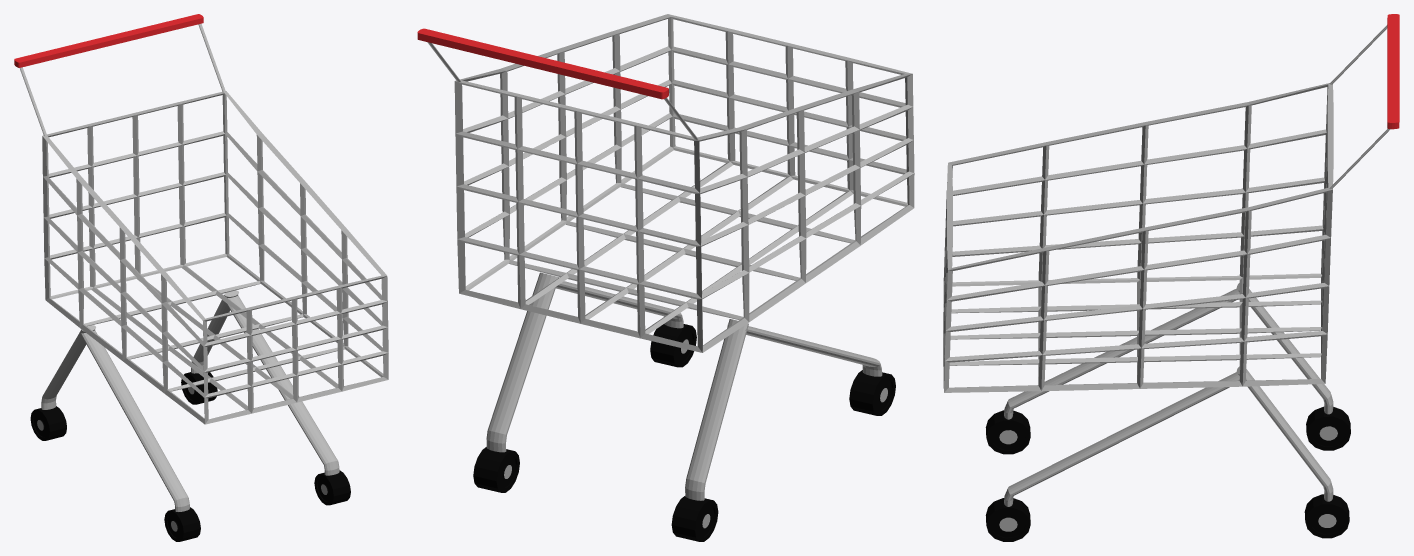
File: shopping_cart3.glb
3 renders of one model, left to right at view 1: azimuth 30°, elevation 25°; view 2: azimuth 150°, elevation 25°; view 3: azimuth 270°, elevation 25°, orthographic. The views are drawn at different scales.
Parts seen in each view (by area): view 1: Shopping cart.001, Wheel_1, Wheel_3, Wheel_4, Wheel_2; view 2: Shopping cart.001, Wheel_1, Wheel_2, Wheel_4, Wheel_3; view 3: Shopping cart.001, Wheel_2, Wheel_1, Wheel_4, Wheel_3.
Part boxes in pixels (left/top/right/bottom): Shopping cart.001: left=14, top=14, right=388, bottom=511; Wheel_1: left=30, top=406, right=66, bottom=440; Wheel_3: left=314, top=470, right=350, bottom=505; Wheel_4: left=164, top=507, right=200, bottom=541; Wheel_2: left=181, top=372, right=217, bottom=404; Shopping cart.001: left=417, top=14, right=914, bottom=500; Wheel_1: left=671, top=496, right=718, bottom=541; Wheel_2: left=473, top=447, right=519, bottom=492; Wheel_4: left=849, top=370, right=895, bottom=415; Wheel_3: left=650, top=324, right=696, bottom=367; Shopping cart.001: left=943, top=14, right=1399, bottom=506; Wheel_2: left=1304, top=494, right=1349, bottom=538; Wheel_1: left=1306, top=406, right=1350, bottom=450; Wheel_4: left=985, top=410, right=1030, bottom=454; Wheel_3: left=985, top=498, right=1030, bottom=541.
Size of the model in its own units: 0.5868 by 1.07 by 1.02.
